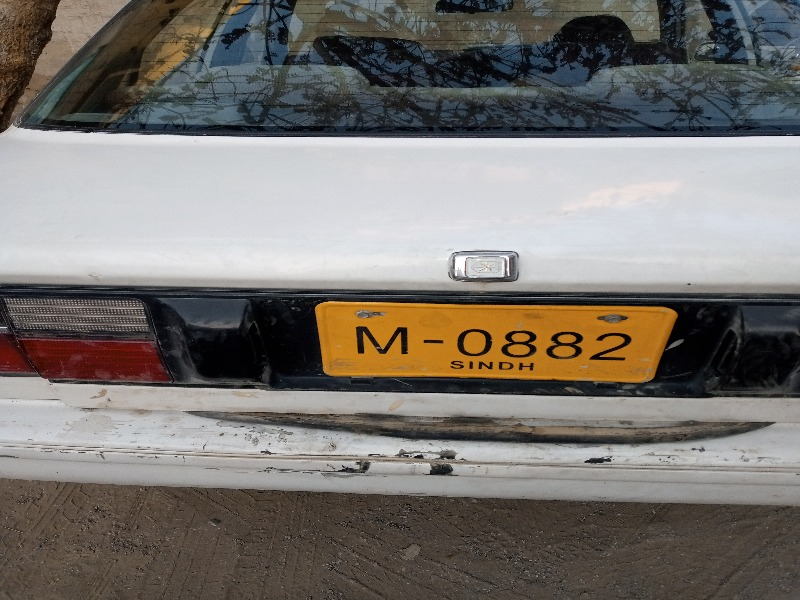License Plate: (310, 294, 680, 395)
